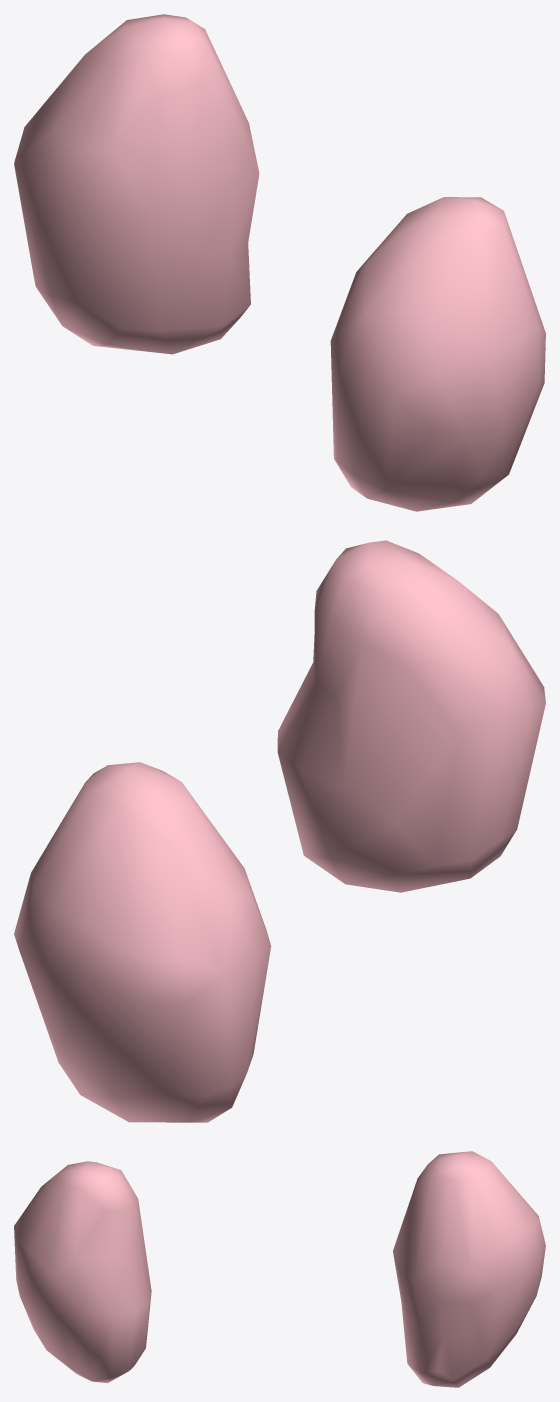
File: OticVesicle_Puzzle.fbx
3 renders of one model, top to bottom at view 1: azimuth 30°, elevation 25°; view 2: azimuth 150°, elevation 25°; view 3: azimuth 270°, elevation 25°, orthographic. The views are drawn at different scales.
Visible parts, largest first — view 1: Otic_vesicle; view 2: Otic_vesicle; view 3: Otic_vesicle.
Part boxes in pixels (x1,y1,x2,y2): Otic_vesicle: (14,14,545,511); Otic_vesicle: (14,540,545,1122); Otic_vesicle: (14,1151,545,1387).
Bounding box in the file's own units: 3.19 × 4.23 × 9.
